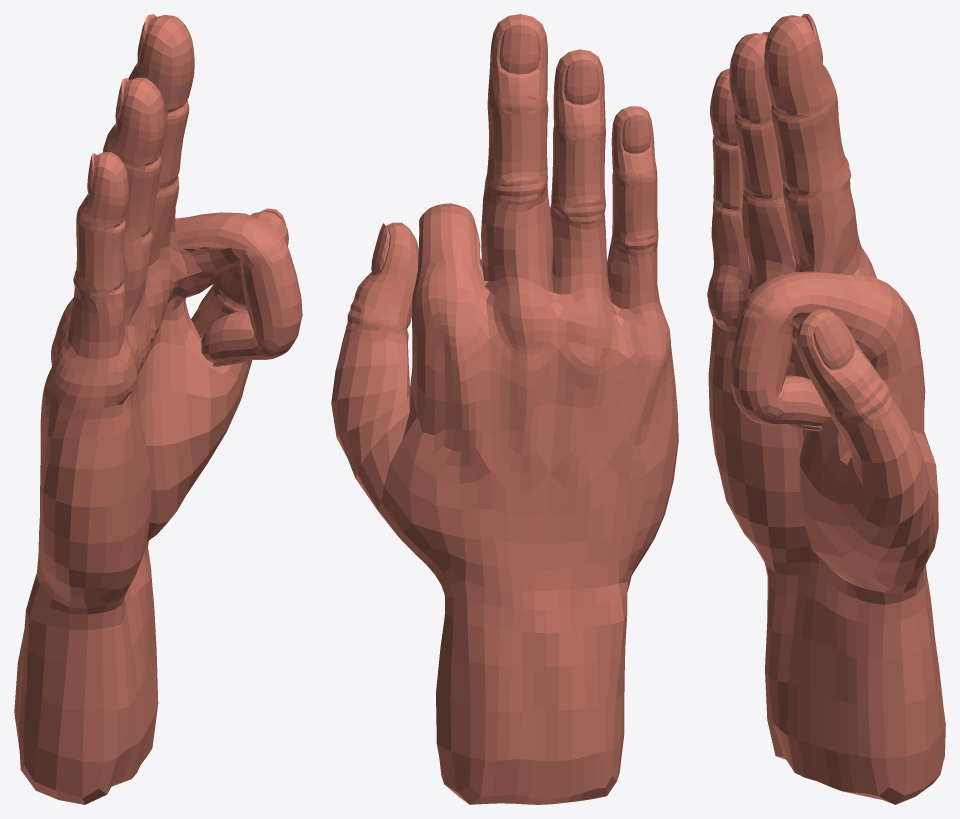
3 views of the same model, side by side, from view 1: azimuth 30°, elevation 25°; view 2: azimuth 150°, elevation 25°; view 3: azimuth 270°, elevation 25° (orthographic). The views are drawn at different scales.
Visible parts, largest first — view 1: ZBrushPolyMesh3D; view 2: ZBrushPolyMesh3D; view 3: ZBrushPolyMesh3D.
Part boxes in pixels (left/top/right/bottom): ZBrushPolyMesh3D: left=14, top=14, right=302, bottom=804; ZBrushPolyMesh3D: left=331, top=14, right=678, bottom=804; ZBrushPolyMesh3D: left=707, top=14, right=945, bottom=804.
Size of the model in its own units: 2.05 by 5.41 by 1.49.
